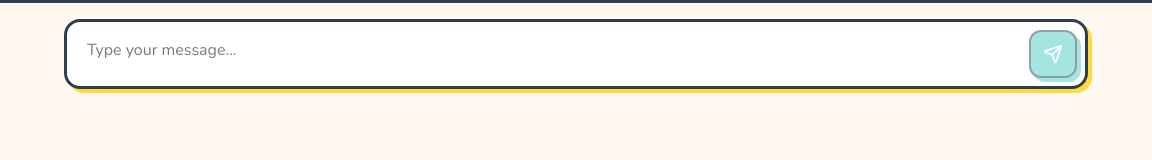
it: ChatInput › sends message when Enter is pressed
Type "Hello world" into the text box with placeholder "Type your message..." at (546, 54), box [75, 30, 1017, 78]
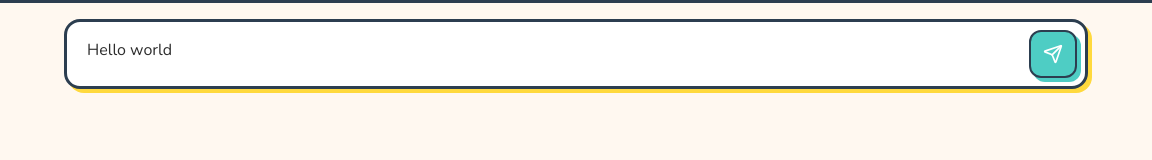
Press Enter
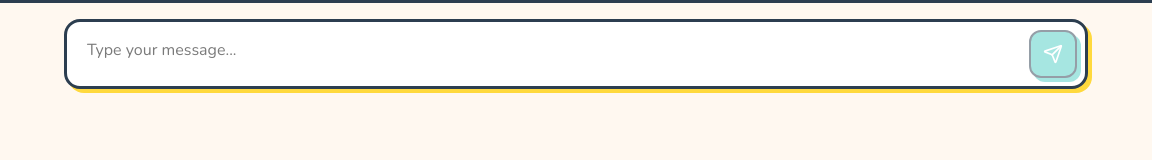
Check: the text box with placeholder "Type your message..." is empty, box [75, 30, 1017, 78]
